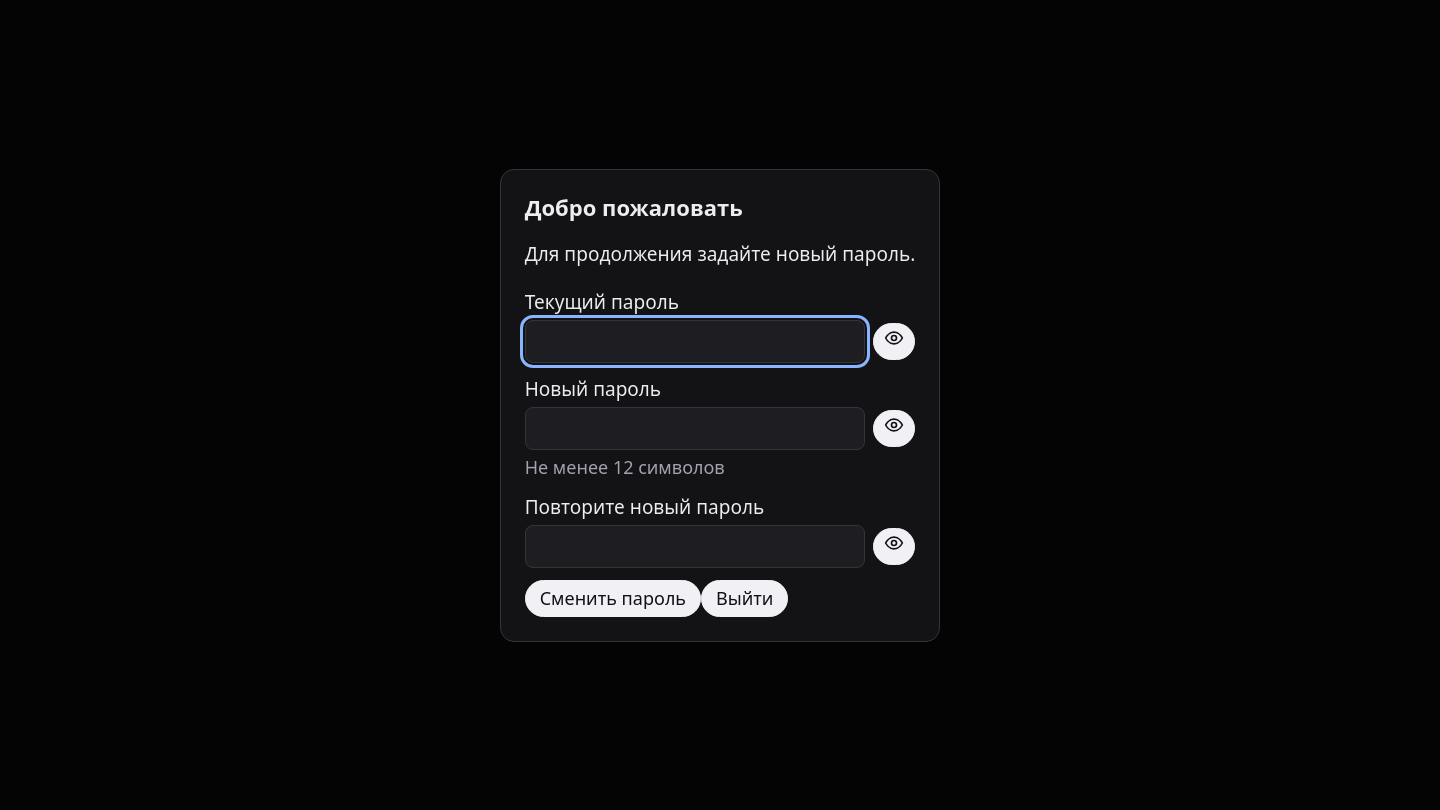
Test: T103 modal password change › ac1_server_error_shows_single_alert_and_keeps_dialog
Type "One-Time-Pass-123" into the password field labelled "Текущий пароль". click: (695, 341)
box: [525,320,865,362]
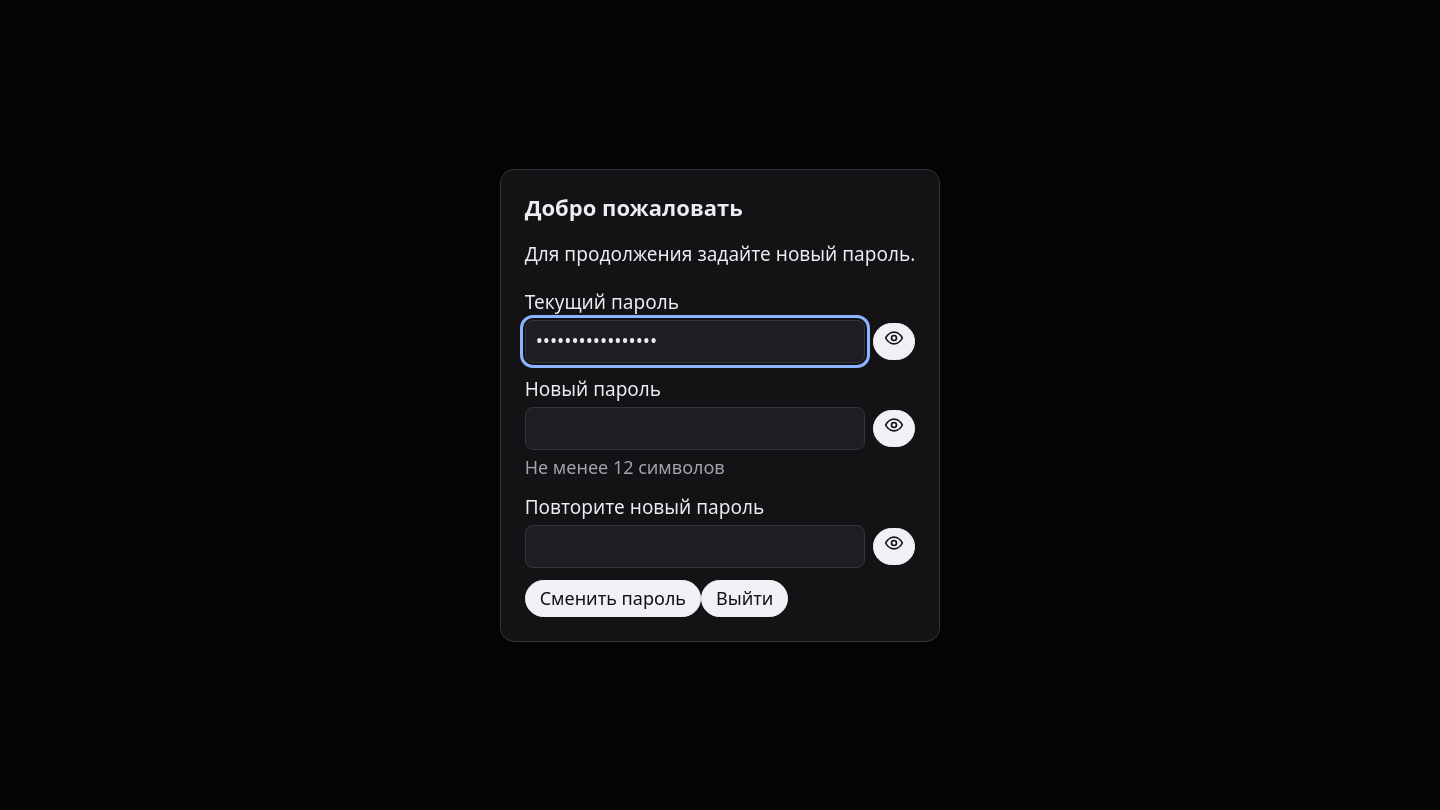
Type "Brand-New-Passw0rd!" into the password field labelled "Новый пароль". click: (695, 428)
box: [525,407,865,450]
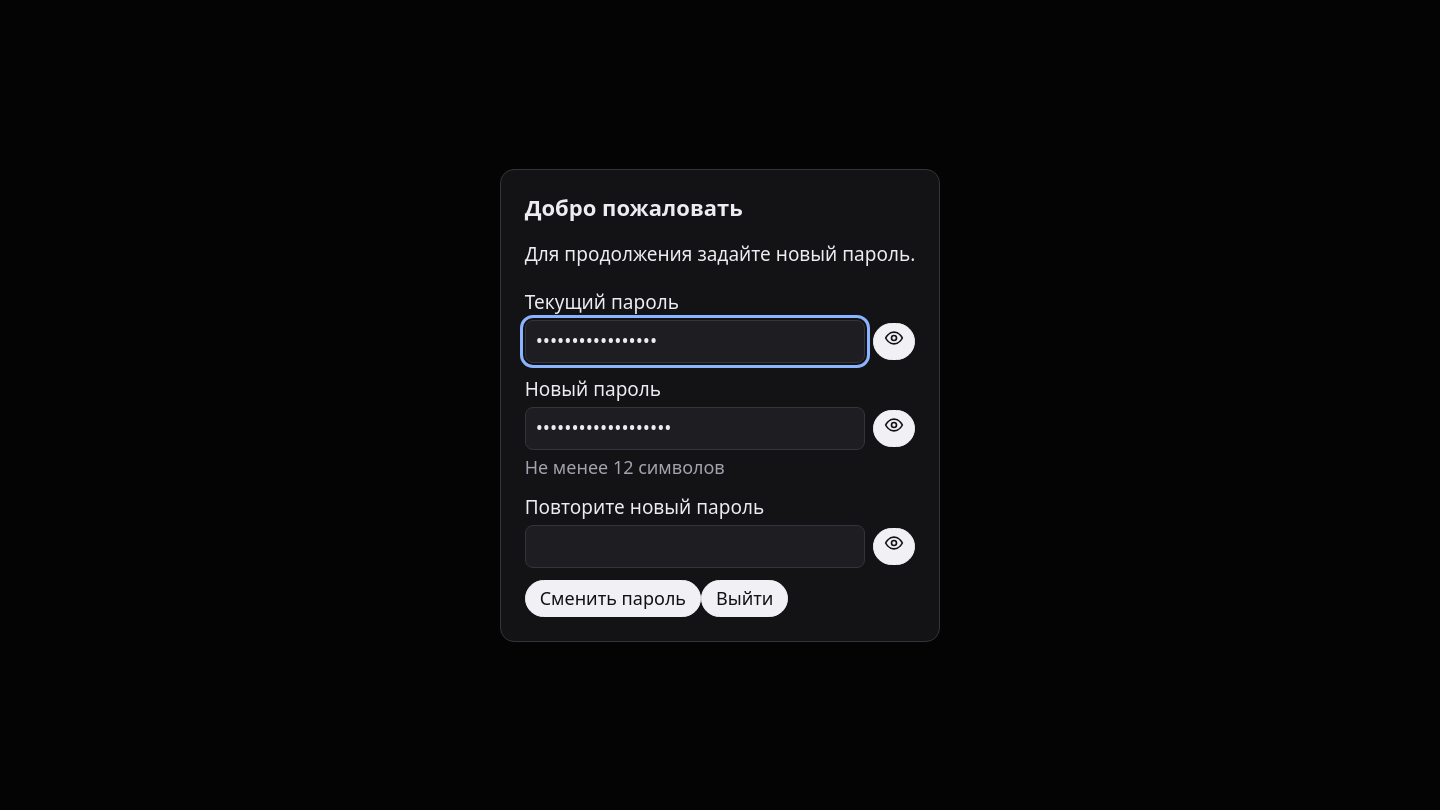
Type "Brand-New-Passw0rd!" into the password field labelled "Повторите новый пароль". click: (695, 546)
box: [525,525,865,568]
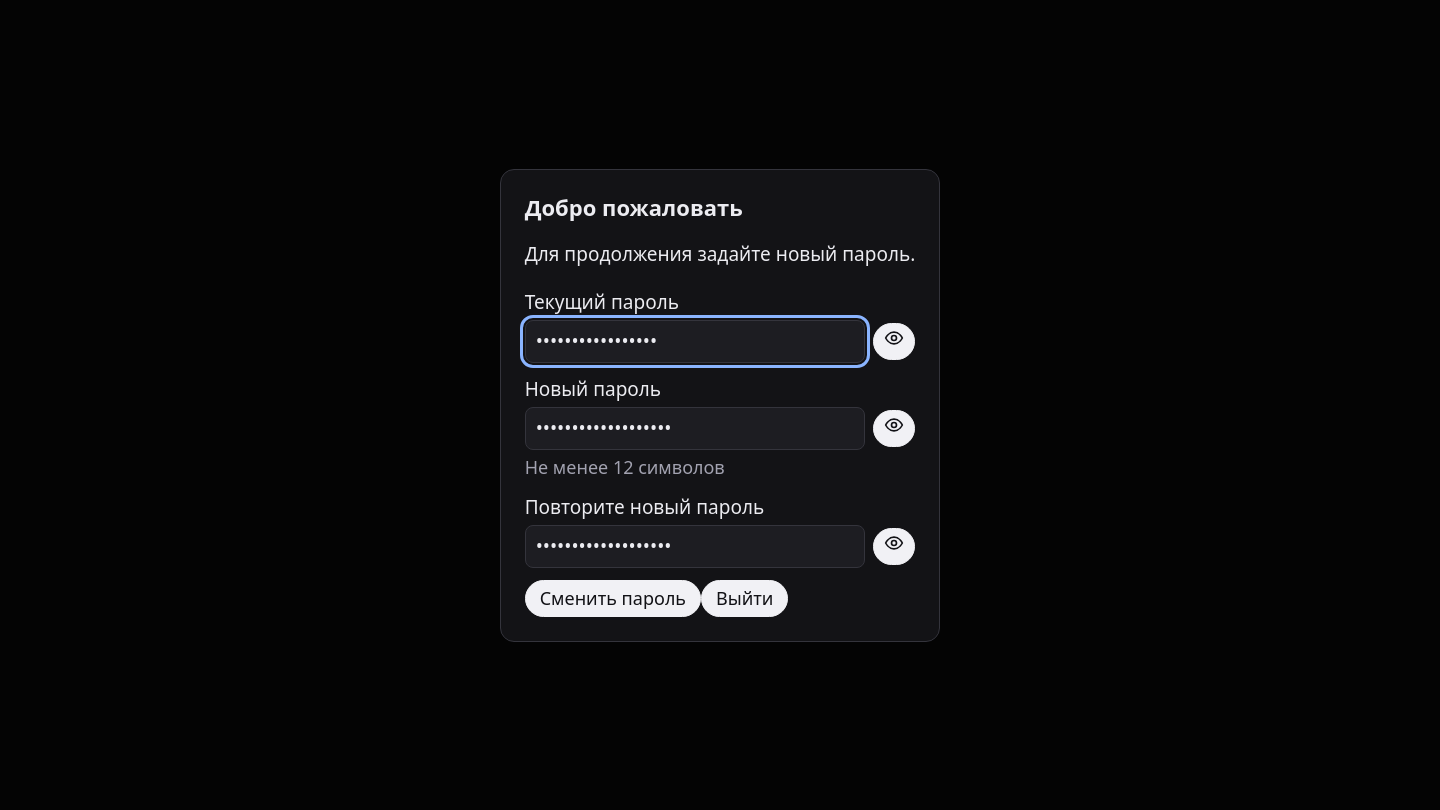
Click the button "Сменить пароль". click: (613, 598)
box: [525,580,701,616]
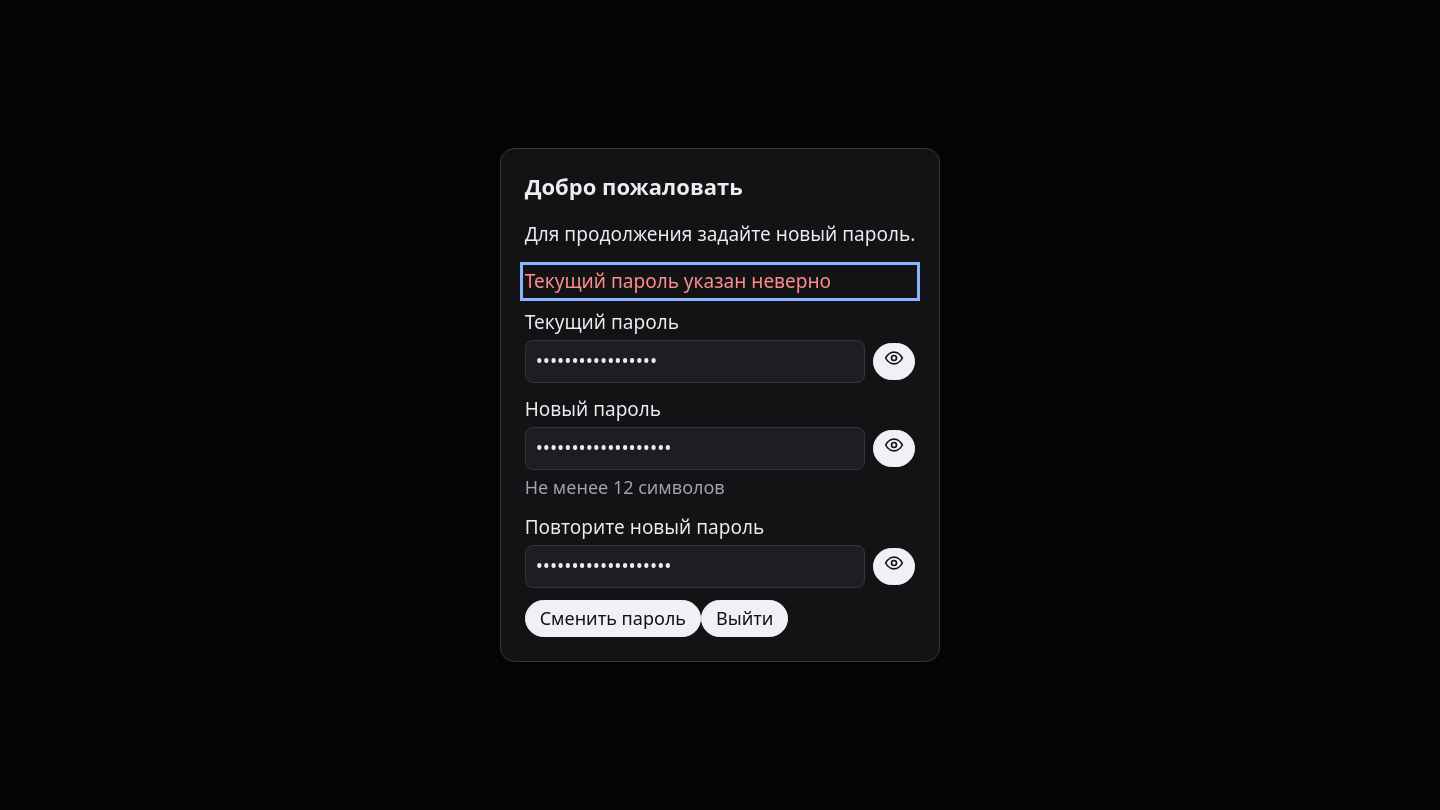
Now the number of messages is 1, box [525,268,831,294]
Now the message reads "Текущий пароль указан неверно", box [525,268,831,294]
